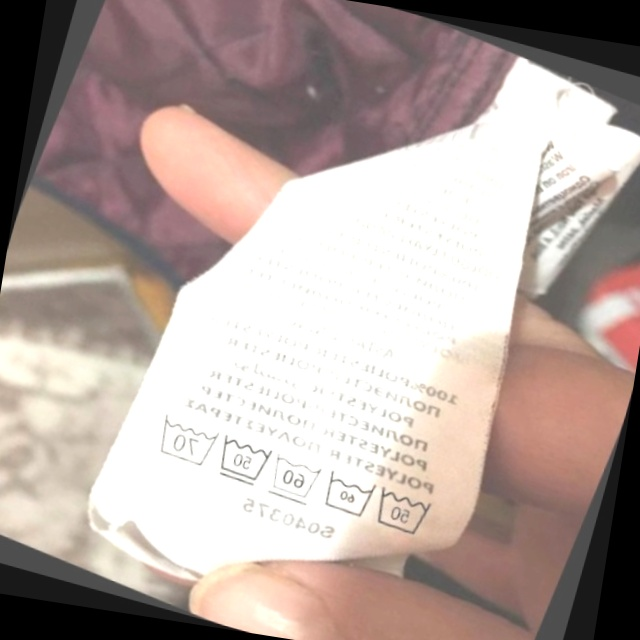50C: (361, 473, 444, 548), (204, 424, 280, 496)
60C: (256, 442, 329, 512), (310, 460, 384, 528)
70C: (142, 404, 225, 475)
